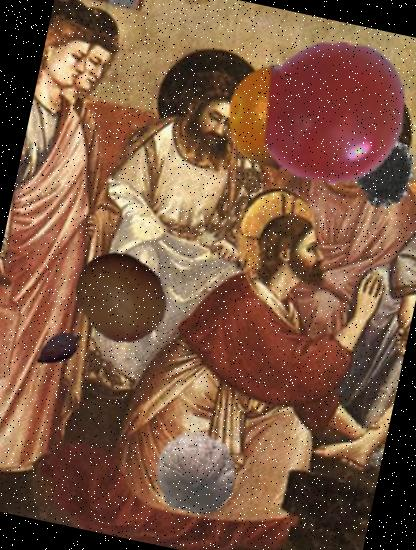Apricot: (64, 240, 178, 354)
Grapefruit: (214, 55, 340, 180)
Rambutan: (345, 133, 416, 215)
Redcurrant: (250, 28, 416, 198)
Salak: (28, 318, 90, 380)
Walnut: (144, 424, 245, 524)
